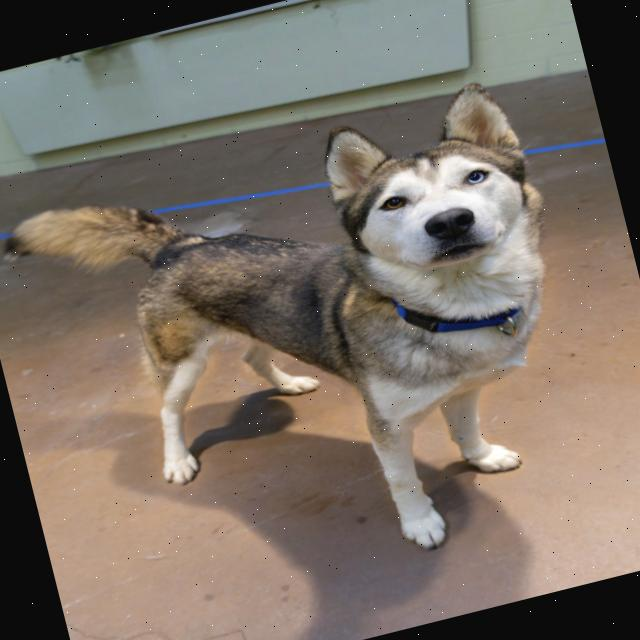siberian_husky_dog: (294, 66, 562, 322)
